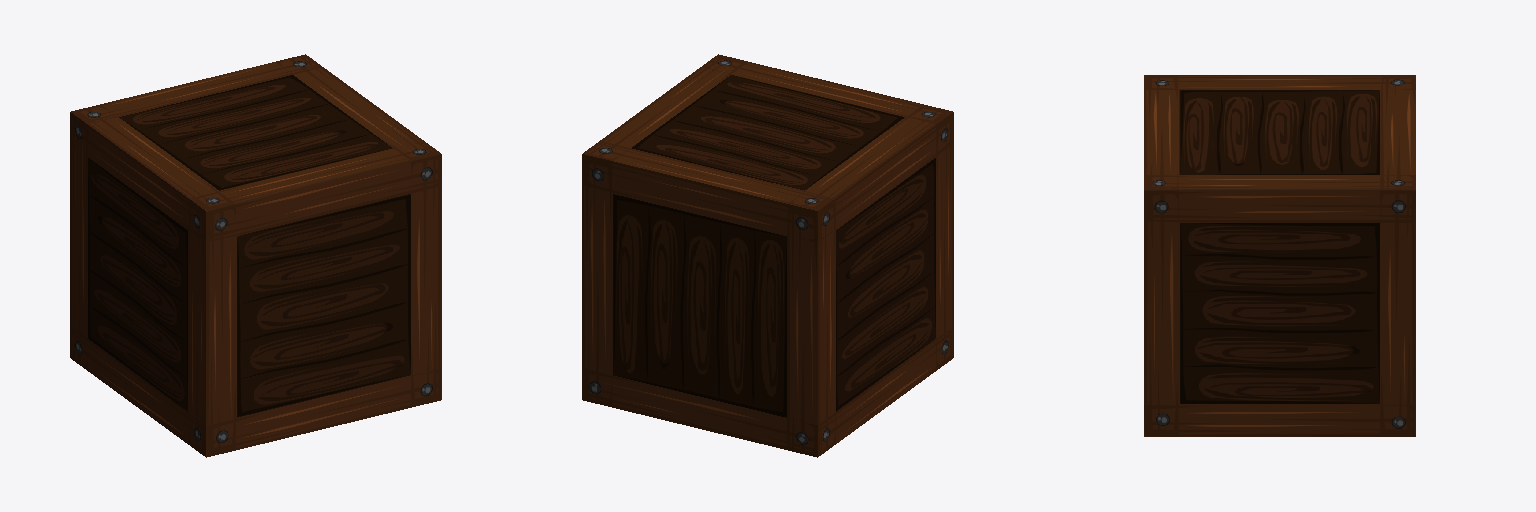
3 views of the same model, side by side, from view 1: azimuth 30°, elevation 25°; view 2: azimuth 150°, elevation 25°; view 3: azimuth 270°, elevation 25° (orthographic).
Visible parts, largest first — view 1: Cube.003_Cube; view 2: Cube.003_Cube; view 3: Cube.003_Cube.
Boxes of the visible parts, box(x1,y1,x2,y2) form: Cube.003_Cube: box(70, 54, 441, 457); Cube.003_Cube: box(582, 54, 953, 457); Cube.003_Cube: box(1144, 75, 1415, 436).
Size of the model in its own units: 0.2061 by 0.2061 by 0.2061.
1 materials, 1 textured.